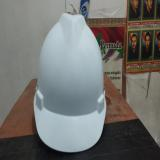Helmet: (34, 12, 106, 153)
